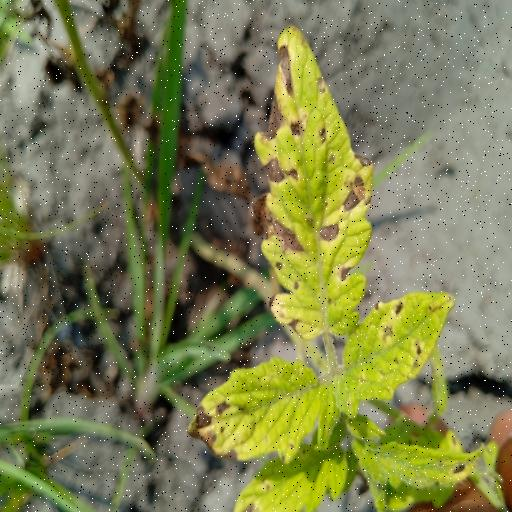Tomato_Brown_Spots: (254, 18, 376, 343), (190, 352, 334, 468), (338, 286, 460, 411)
